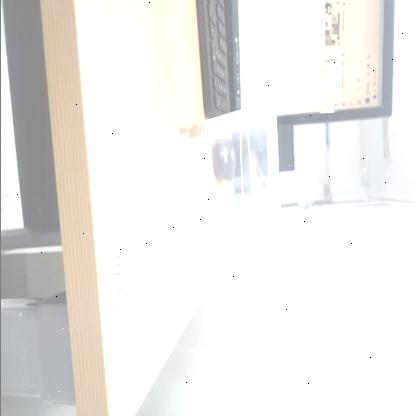Others: (126, 82, 282, 274)
